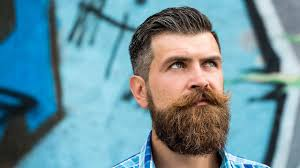b.y: (166, 89, 229, 154)
